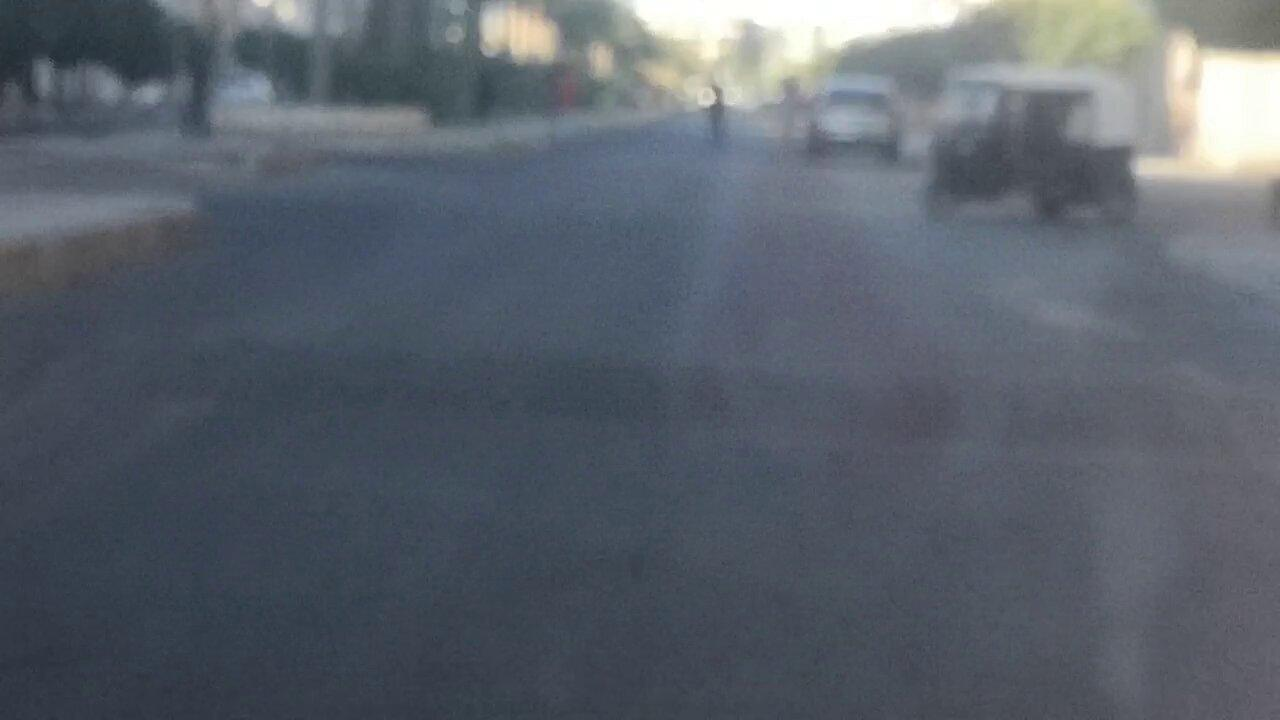Bump: (0, 316, 1279, 467)
